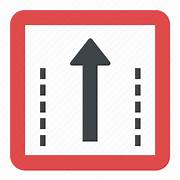forward: (10, 8, 171, 170)
